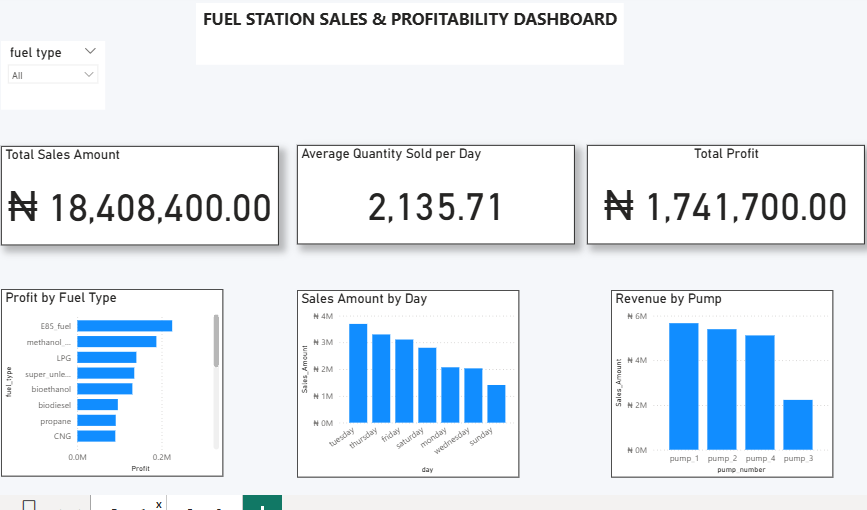

This screenshot's page, from the dashboard's own definition file:
{"tool":"powerbi","page":{"name":"Page 1","canvas":[1280,720],"ordinal":0},"visuals":[{"type":"textbox","box":[305.3,11.5,616.3,89.3],"z":0},{"type":"card","title":"Total Sales Amount","fields":{"Values":["Sum(fuel_station_data.sales_amount)"]},"box":[24.5,217.4,400,143],"z":1000},{"type":"card","title":"Average Quantity Sold per Day","fields":{"Values":["fuel_station_data.Average Quantity Sold per Day"]},"box":[450.7,216,400,143],"z":2000},{"type":"card","title":"Total Profit","fields":{"Values":["fuel_station_data.Total Profit"]},"box":[868.3,216,400,143],"z":3000},{"type":"clusteredBarChart","title":"Profit by Fuel Type","fields":{"Category":["fuel_station_data.fuel_type"],"Y":["Sum(fuel_station_data.profit)"]},"box":[24.5,423.4,320,270],"z":4000},{"type":"columnChart","title":"Sales Amount by Day","fields":{"Category":["fuel_station_data.day"],"Y":["Sum(fuel_station_data.sales_amount)"]},"box":[450.7,424.8,320,270],"z":5000},{"type":"columnChart","title":"Revenue by Pump","fields":{"Category":["fuel_station_data.pump_number"],"Y":["Sum(fuel_station_data.sales_amount)"]},"box":[902.9,424.8,320,270],"z":6000},{"type":"slicer","fields":{"Values":["fuel_station_data.fuel_type"]},"box":[24.5,66.2,149.8,99.4],"z":7000}]}

Visuals, with their boxes in screenshot pixels (x1, y1, x2, y2):
textbox: {"left": 193, "top": 1, "right": 620, "bottom": 63}
"Total Sales Amount" card: {"left": 0, "top": 144, "right": 276, "bottom": 243}
"Average Quantity Sold per Day" card: {"left": 294, "top": 143, "right": 571, "bottom": 242}
"Total Profit" card: {"left": 583, "top": 143, "right": 860, "bottom": 242}
"Profit by Fuel Type" clusteredBarChart: {"left": 0, "top": 286, "right": 221, "bottom": 473}
"Sales Amount by Day" columnChart: {"left": 294, "top": 287, "right": 516, "bottom": 474}
"Revenue by Pump" columnChart: {"left": 607, "top": 287, "right": 829, "bottom": 474}
slicer - fuel_station_data.fuel_type: {"left": 0, "top": 39, "right": 103, "bottom": 108}
